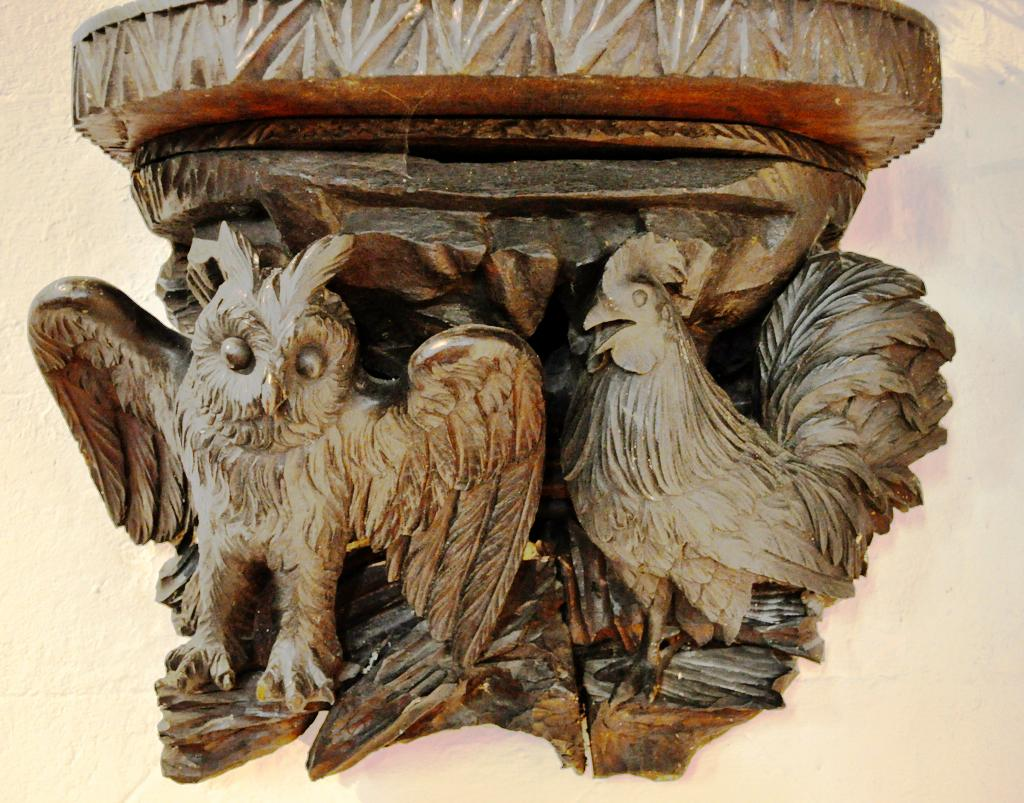Owl: (22, 220, 552, 707)
